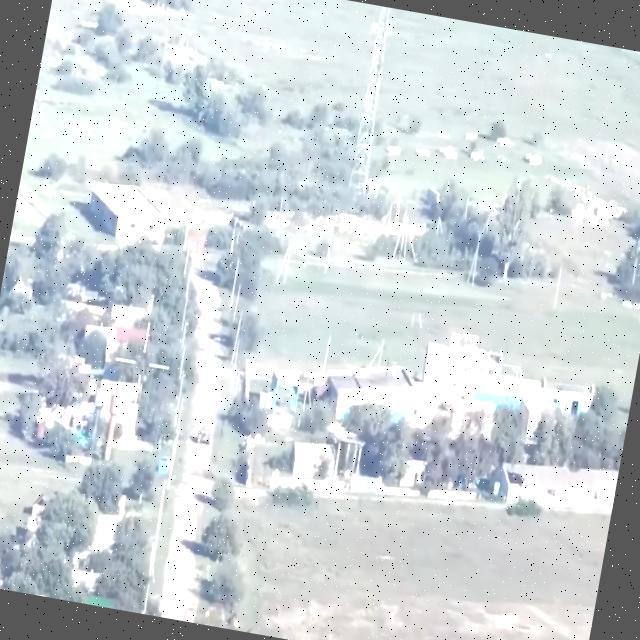MBT: (195, 422, 216, 448)
